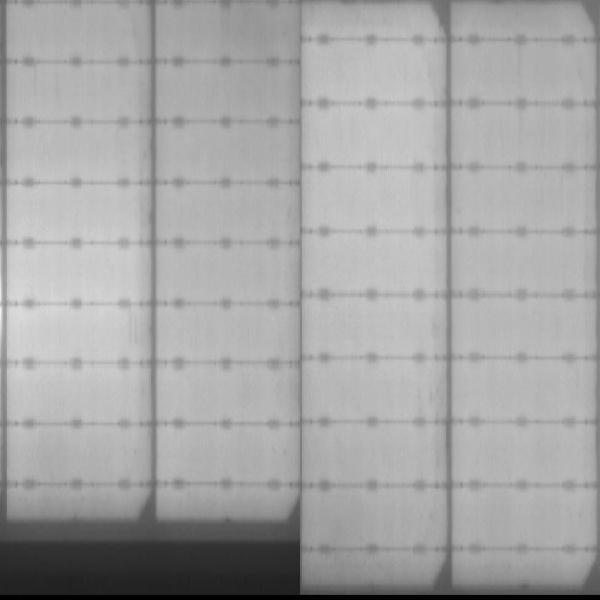no_electricity: (1, 544, 297, 595)
